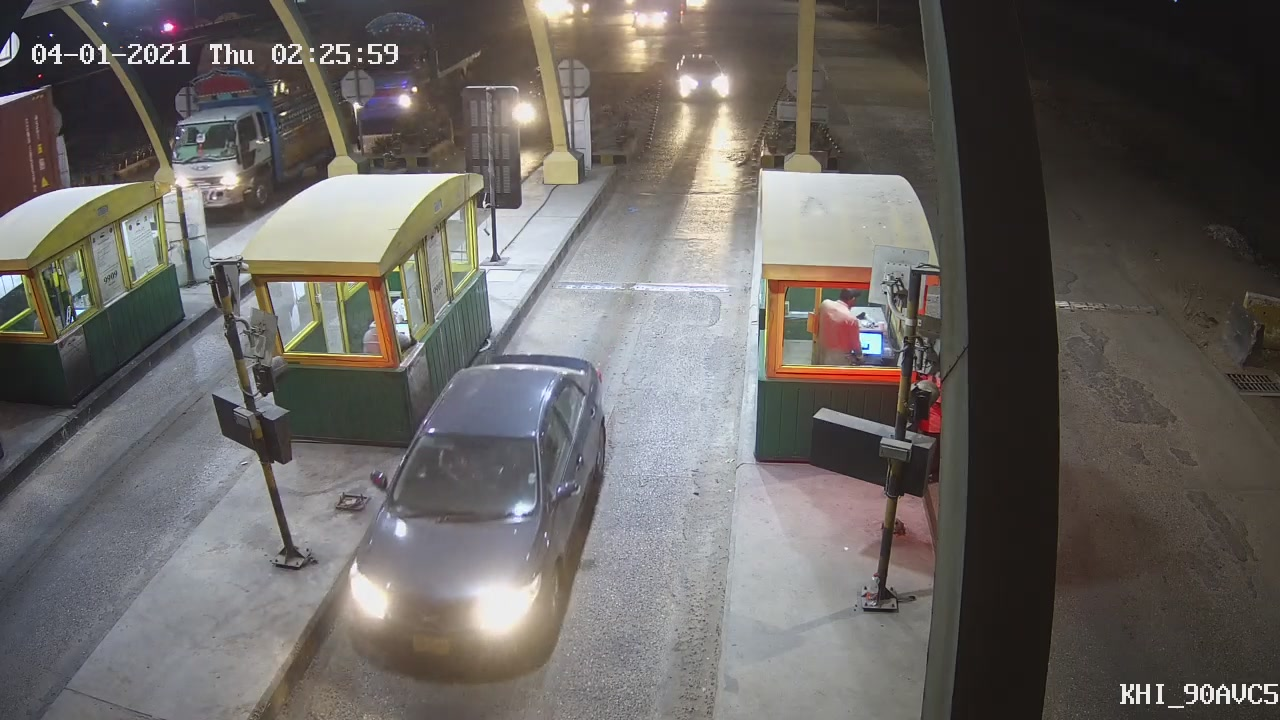F1: (345, 354, 613, 678)
